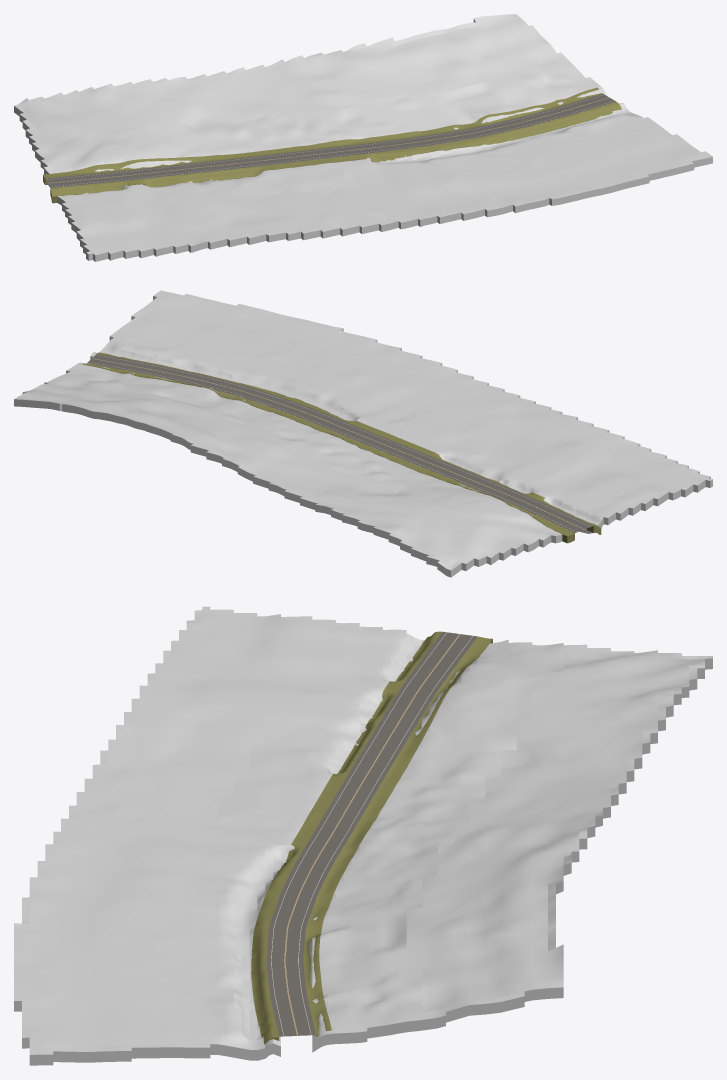
Rendered from conz_135.glb.
3 views of the same model, one above another, from view 1: azimuth 30°, elevation 25°; view 2: azimuth 150°, elevation 25°; view 3: azimuth 270°, elevation 25° (orthographic). The views are drawn at different scales.
Parts seen in each view (by area): view 1: terrain135, road135, verge135L, verge135R, paint_yellow135, paint_white135; view 2: terrain135, road135, verge135R, verge135L, paint_white135, paint_yellow135; view 3: terrain135, road135, verge135L, verge135R, paint_white135, paint_yellow135.
Part boxes in pixels (box(x1,y1,x2,y2)): terrain135: box(14, 14, 712, 261); road135: box(45, 93, 615, 187); verge135L: box(50, 101, 621, 203); verge135R: box(43, 87, 602, 184); paint_yellow135: box(49, 97, 609, 183); paint_white135: box(47, 96, 612, 186); terrain135: box(14, 290, 712, 577); road135: box(87, 353, 592, 532); verge135R: box(82, 363, 574, 543); verge135L: box(97, 352, 601, 534); paint_white135: box(89, 355, 590, 531); paint_yellow135: box(92, 358, 584, 529); terrain135: box(14, 606, 712, 1065); road135: box(266, 631, 477, 1036); verge135L: box(251, 631, 441, 1044); verge135R: box(303, 636, 492, 1036); paint_white135: box(271, 632, 472, 1035); paint_yellow135: box(284, 634, 460, 1035).
Size of the model in its own units: 268 by 19.99 by 178.
